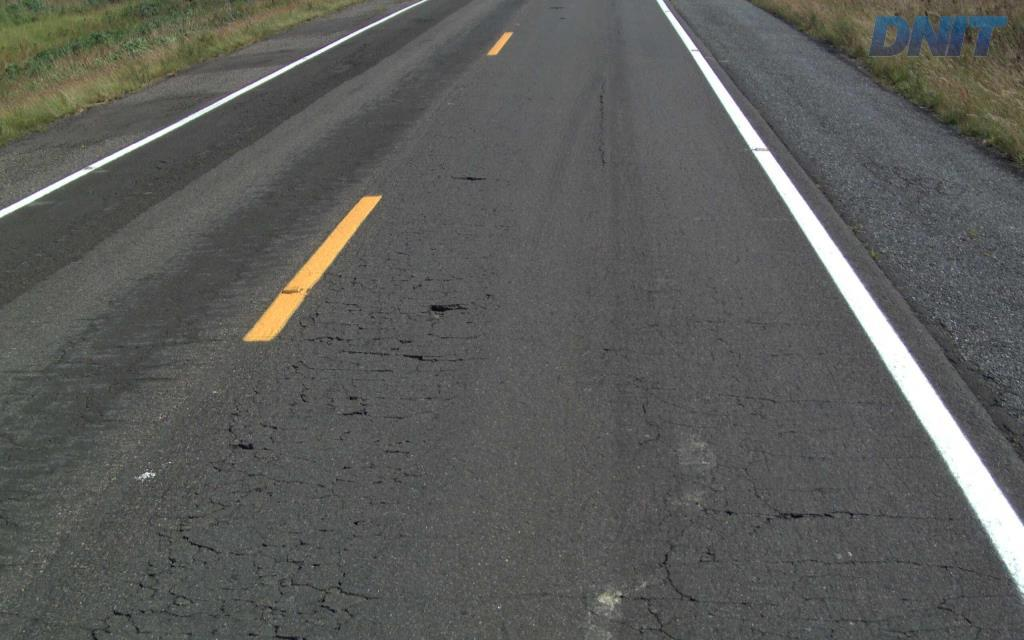crack: (763, 499, 869, 520)
